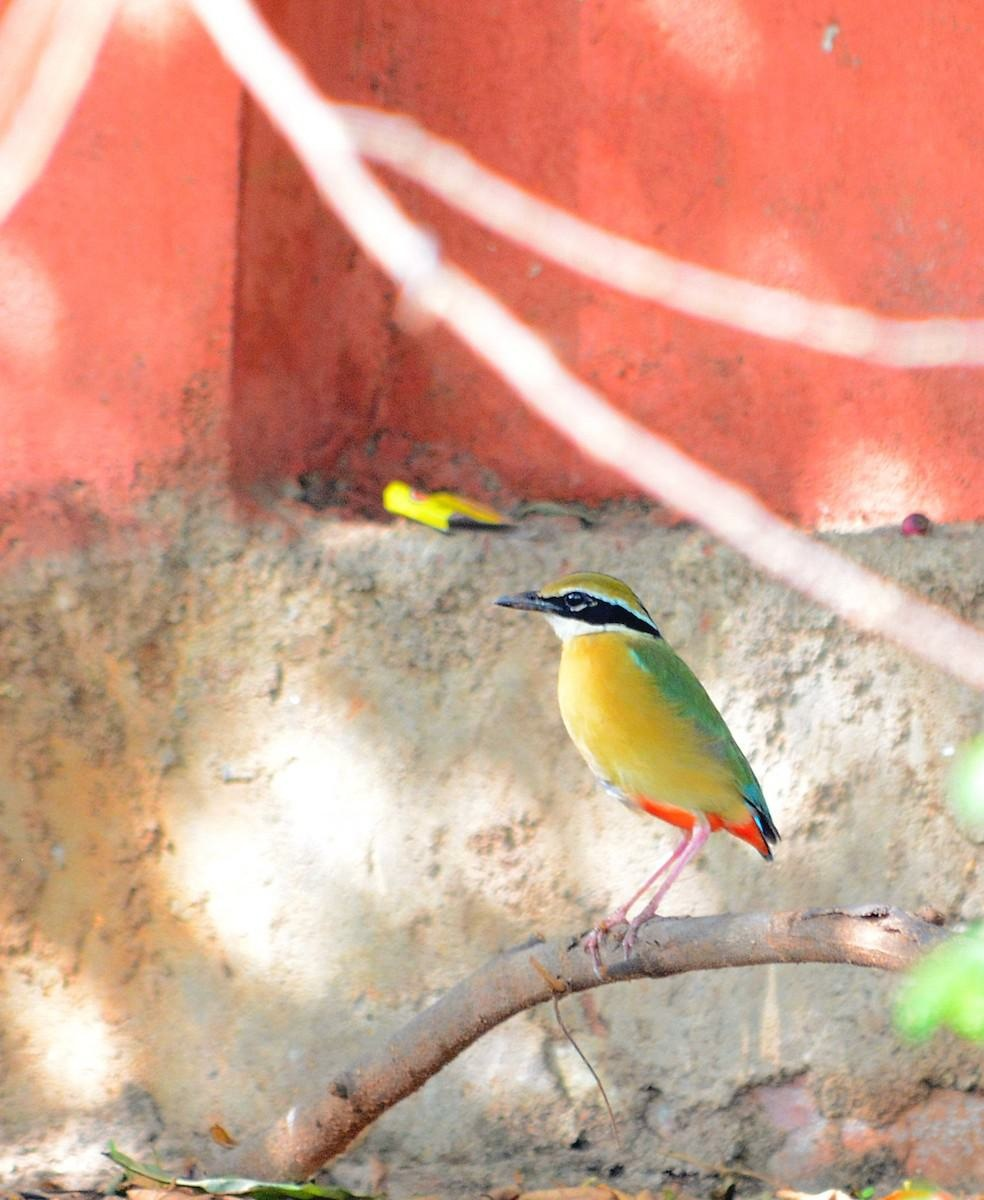pitta: (514, 549, 811, 941)
